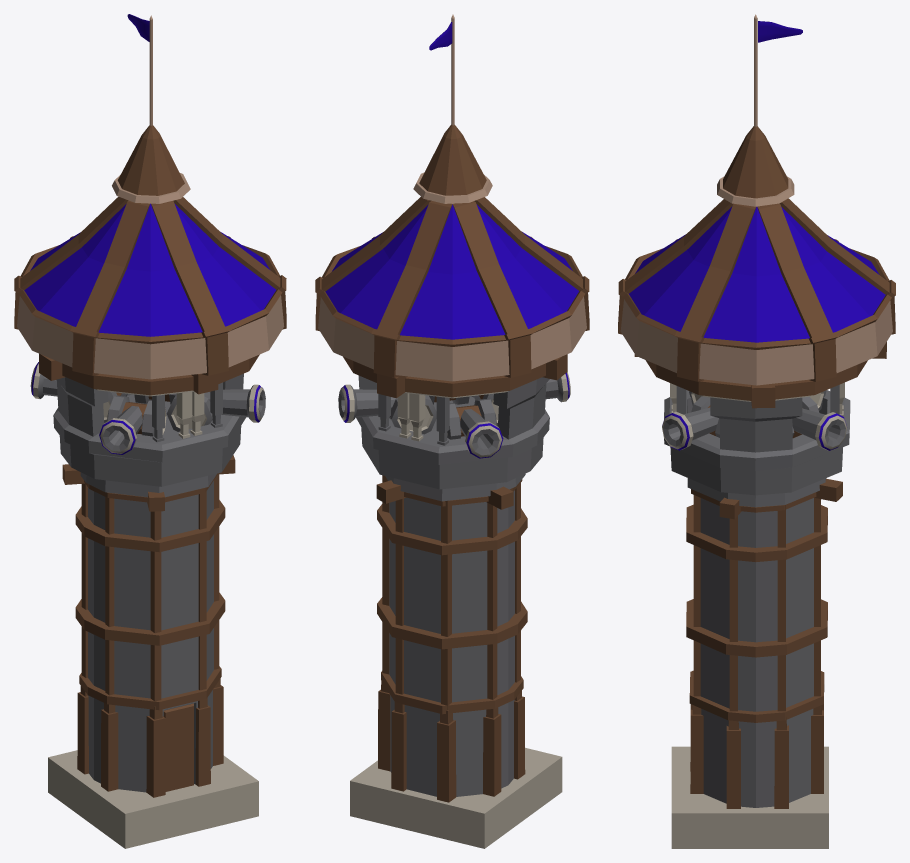
File: CanonTower.fbx
3 views of the same model, side by side, from view 1: azimuth 30°, elevation 25°; view 2: azimuth 150°, elevation 25°; view 3: azimuth 270°, elevation 25° (orthographic).
Visible parts, largest first — view 1: CanonTower; view 2: CanonTower; view 3: CanonTower.
Boxes of the visible parts, x1,y1,x2,y2 form: CanonTower: (14, 14, 286, 848); CanonTower: (315, 14, 589, 848); CanonTower: (618, 14, 895, 848).
Size of the model in its own units: 7.09 by 22.47 by 7.05.
